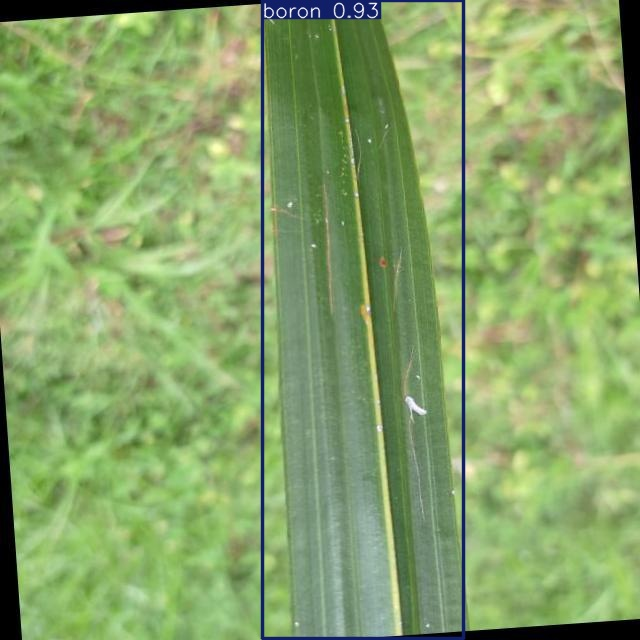nitrogen: (263, 1, 464, 638)
